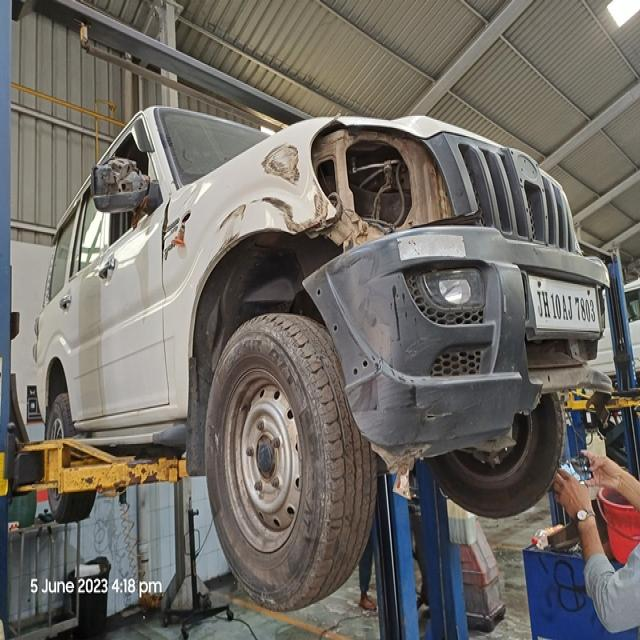damage: (319, 115, 449, 227), (301, 193, 382, 297), (508, 357, 623, 429), (205, 195, 321, 234), (94, 157, 144, 206), (257, 144, 298, 185), (176, 207, 194, 226)
